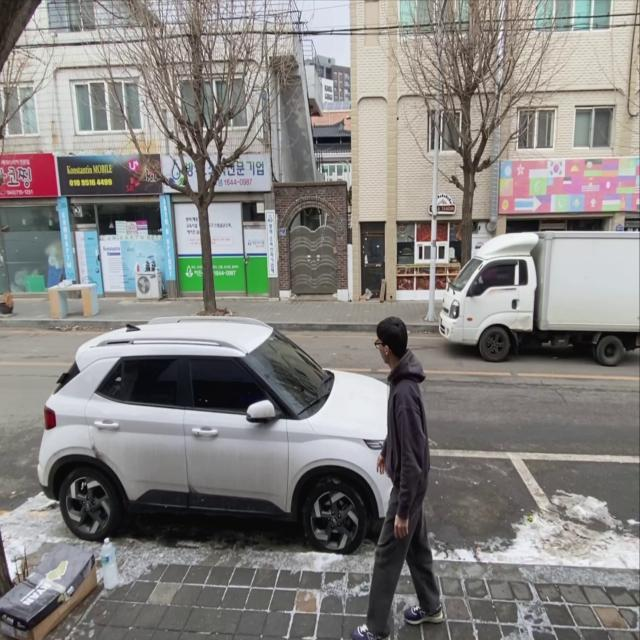bare_hand: (392, 513, 413, 539), (377, 452, 388, 476)
